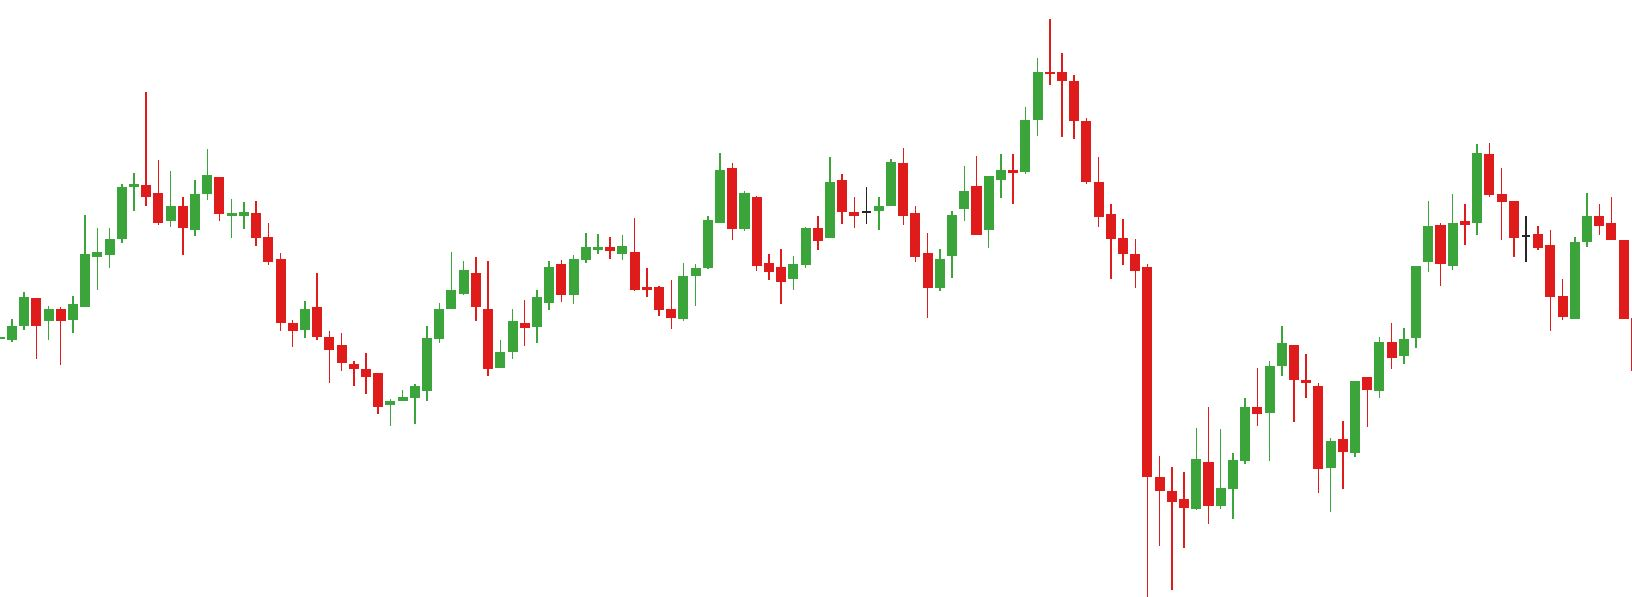buy: (776, 201, 946, 322)
